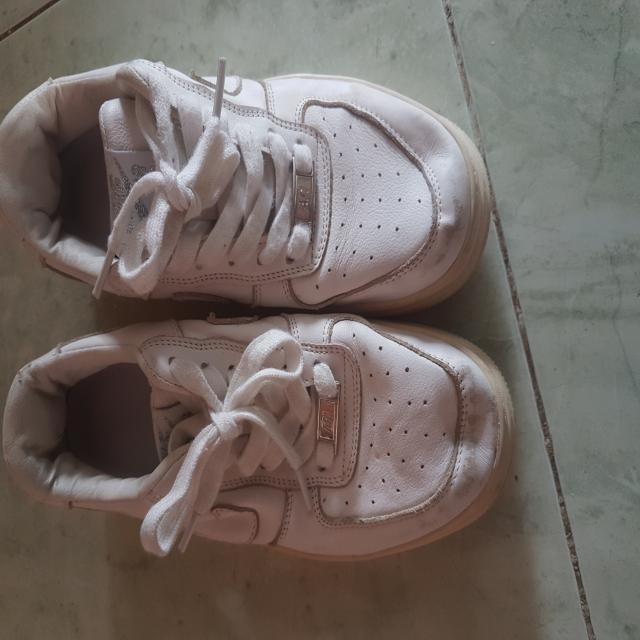nike fake air force: (118, 72, 631, 328), (146, 332, 637, 586)
